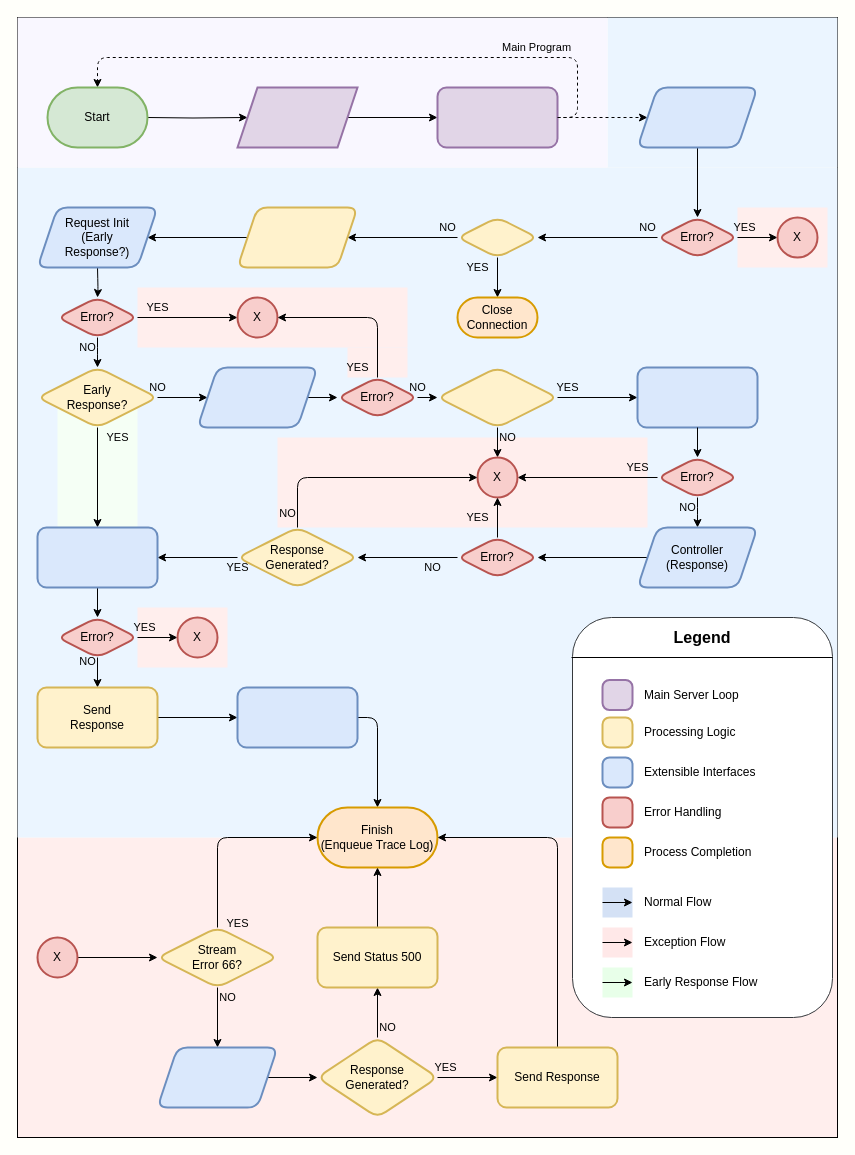
Some shapes in this 855 by 1155 pixel diagram are drawn without their labels. Here are the shapes that lost their labels. From the top down, the box of each, then its label:
(236, 86, 358, 148): TCP Request (Connection)
(436, 86, 558, 148): Launch Async Processing
(636, 86, 758, 148): Connection Filtering (Close?)
(236, 206, 358, 268): Read Request
(456, 216, 538, 258): Close?
(196, 366, 318, 428): Routing (Controller)
(436, 366, 558, 428): Controller Selected?
(636, 366, 758, 428): Controller Initialization
(36, 526, 158, 588): Response Handling
(236, 686, 358, 748): Cleanup
(156, 1046, 278, 1108): Exception Handlers (Response)
